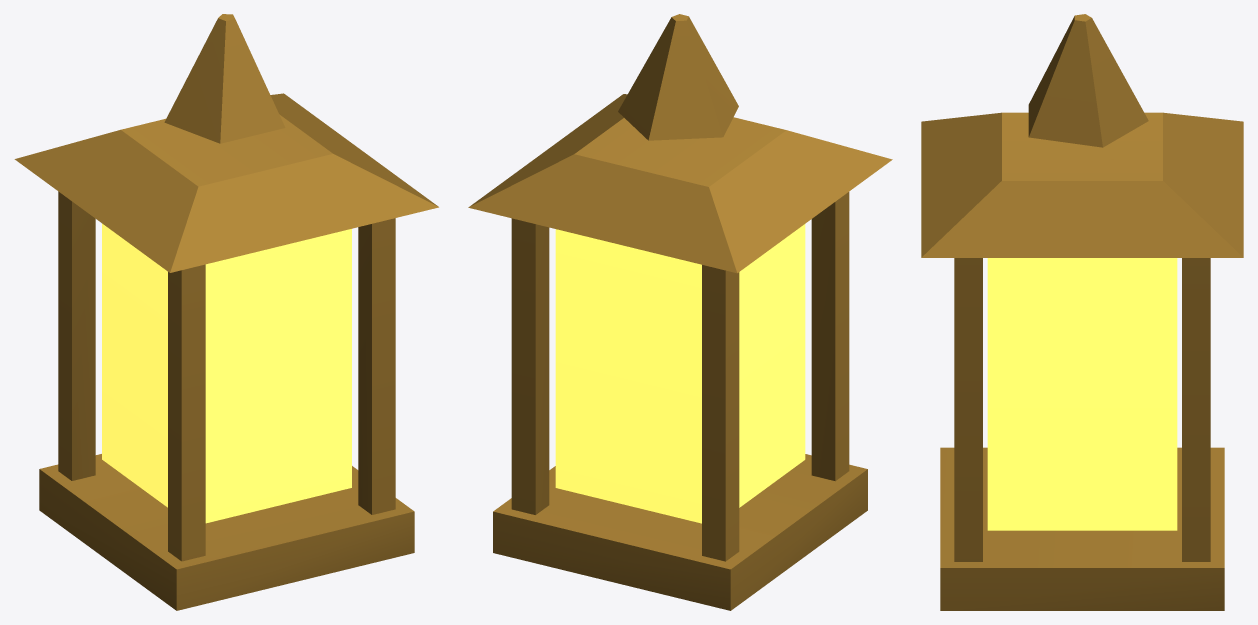
File: kit_lantern.glb
3 views of the same model, side by side, from view 1: azimuth 30°, elevation 25°; view 2: azimuth 150°, elevation 25°; view 3: azimuth 270°, elevation 25° (orthographic). The views are drawn at different scales.
Parts seen in each view (by area): view 1: lantern_frame, glow; view 2: lantern_frame, glow; view 3: lantern_frame, glow.
Boxes of the visible parts, x1,y1,x2,y2 form: lantern_frame: (14,14,438,610); glow: (102,223,351,523); lantern_frame: (468,14,892,610); glow: (555,224,805,523); lantern_frame: (921,14,1243,610); glow: (987,258,1177,530).
Size of the model in its own units: 0.34 by 0.62 by 0.34.
